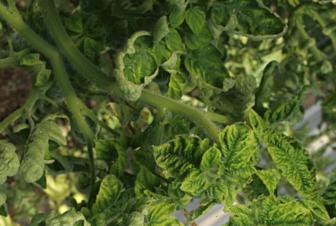Tomato leaf yellow virus: (90, 21, 186, 112), (180, 117, 273, 205), (200, 0, 294, 68), (104, 174, 198, 226), (71, 168, 140, 226)
